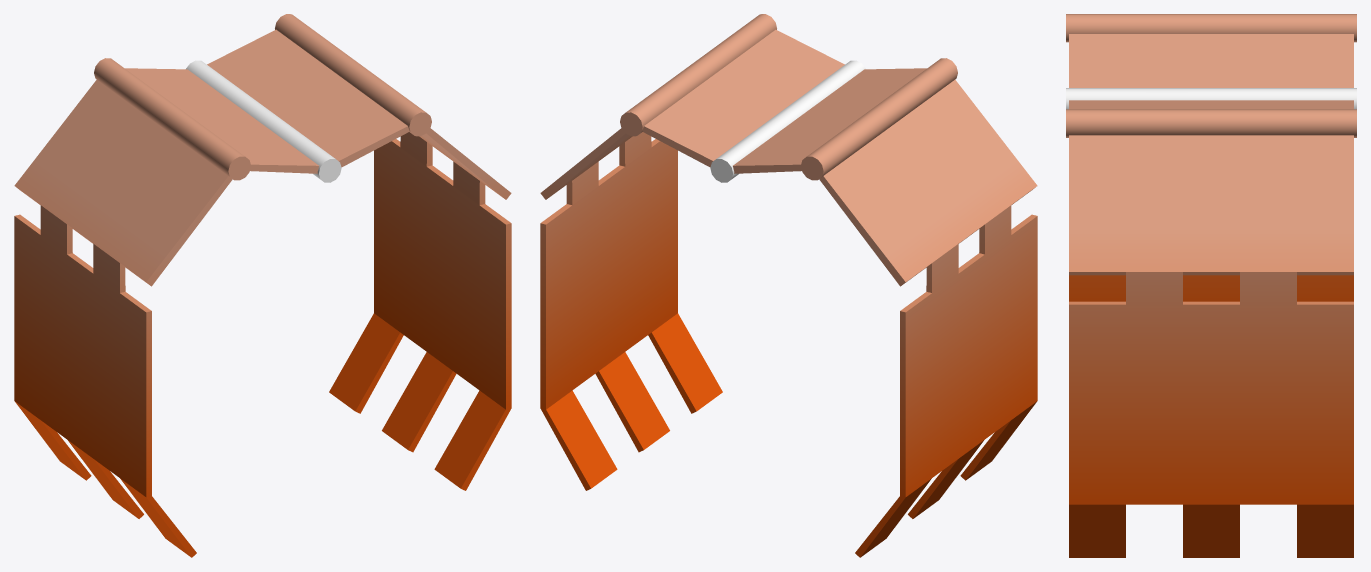
Rendered from claw.fbx.
3 views of the same model, side by side, from view 1: azimuth 30°, elevation 25°; view 2: azimuth 150°, elevation 25°; view 3: azimuth 270°, elevation 25° (orthographic). The views are drawn at different scales.
Visible parts, largest first — view 1: claw.L, claw.R, claw pivot; view 2: claw.L, claw.R, claw pivot; view 3: claw.R, claw.L, claw pivot.
Boxes of the visible parts, left/top/right/bottom form: claw.L: left=14, top=58, right=318, bottom=557; claw.R: left=207, top=14, right=511, bottom=490; claw pivot: left=186, top=60, right=341, bottom=182; claw.L: left=733, top=58, right=1037, bottom=557; claw.R: left=540, top=14, right=844, bottom=490; claw pivot: left=710, top=60, right=865, bottom=182; claw.R: left=1066, top=100, right=1356, bottom=557; claw.L: left=1066, top=14, right=1356, bottom=301; claw pivot: left=1066, top=88, right=1356, bottom=109.
Size of the model in its own units: 16 by 16.36 by 10.2.
